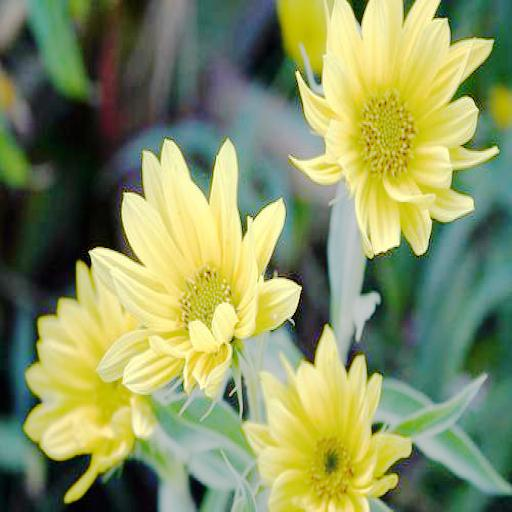sunflower: (94, 134, 298, 393), (298, 0, 499, 244), (246, 327, 408, 512)
